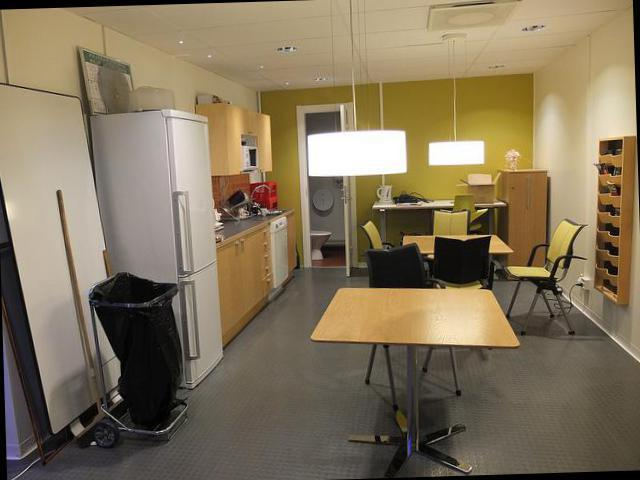Bote de Basura: (80, 276, 188, 445)
Lavaplatos: (224, 181, 285, 230)
